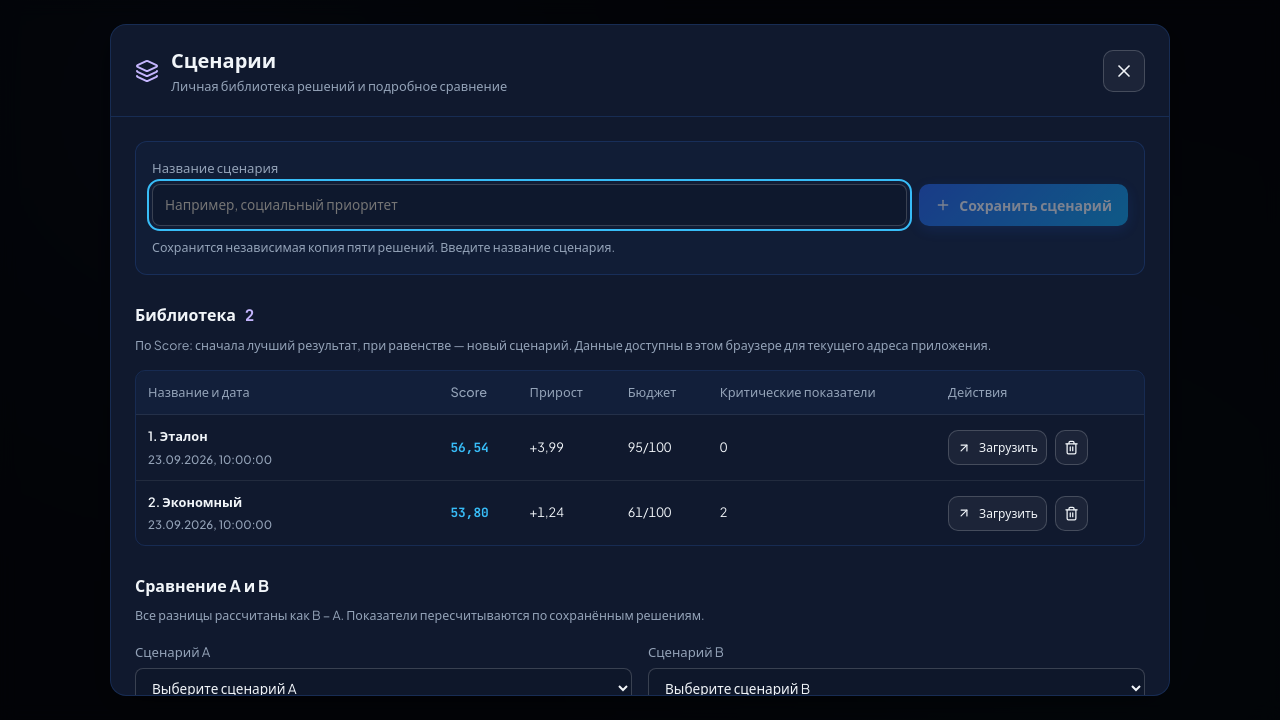
Scenario: scenario library and detailed comparison › disables the opposite selection and clears only a deleted participant
This screenshot has width=1280, height=720.
Select "2. Экономный" in the dropdown labelled "Сценарий A" at {"x": 384, "y": 688}, box [135,668,632,709]
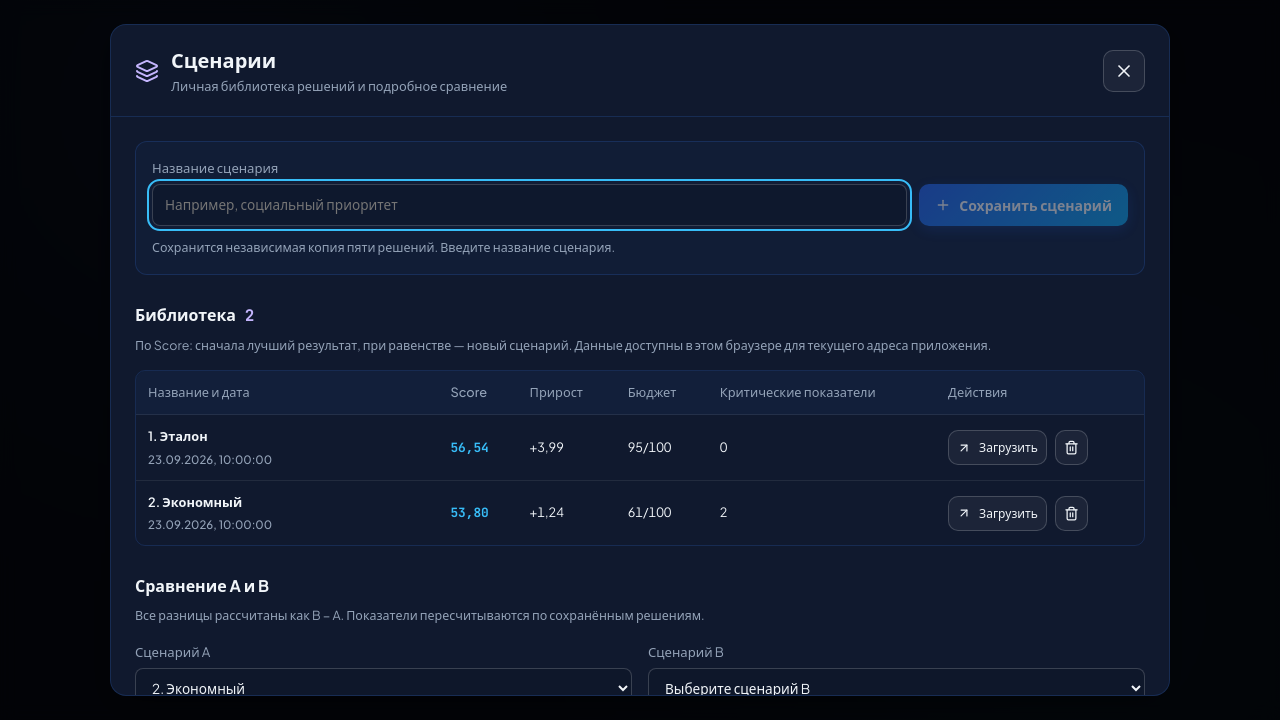
Select "1. Эталон" in the dropdown labelled "Сценарий B" at {"x": 896, "y": 688}, box [648,668,1145,709]
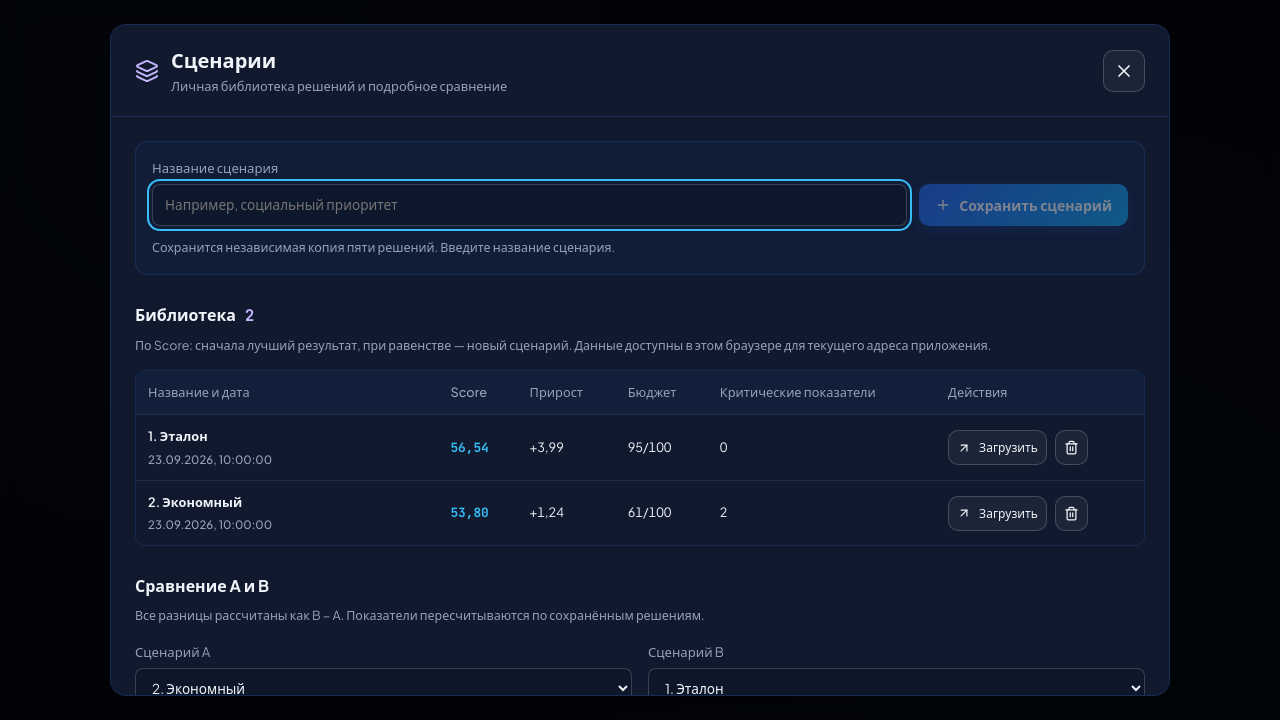
Click the button named "Удалить сценарий 2: Экономный" at {"x": 1071, "y": 513}, box [1055,496,1088,531]
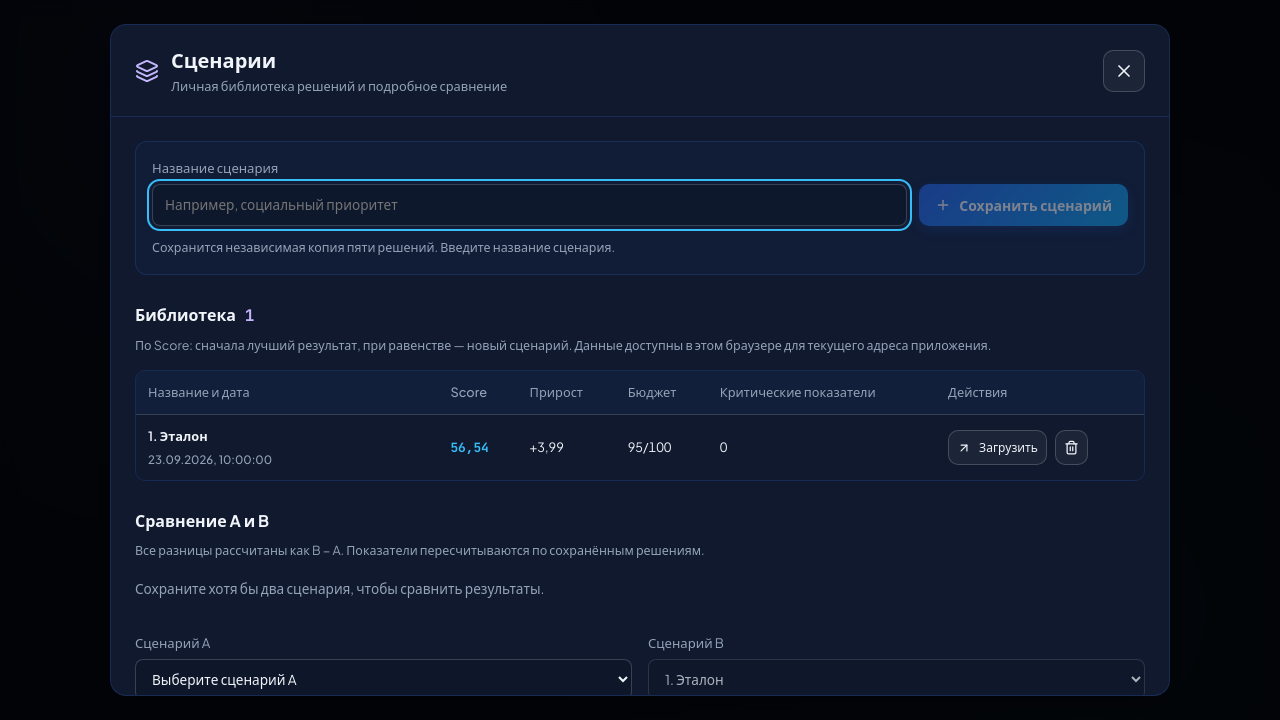
Expected: the text "Сохраните хотя бы два сценария, чтобы сравнить результаты." is shown, [135,580,544,597]
